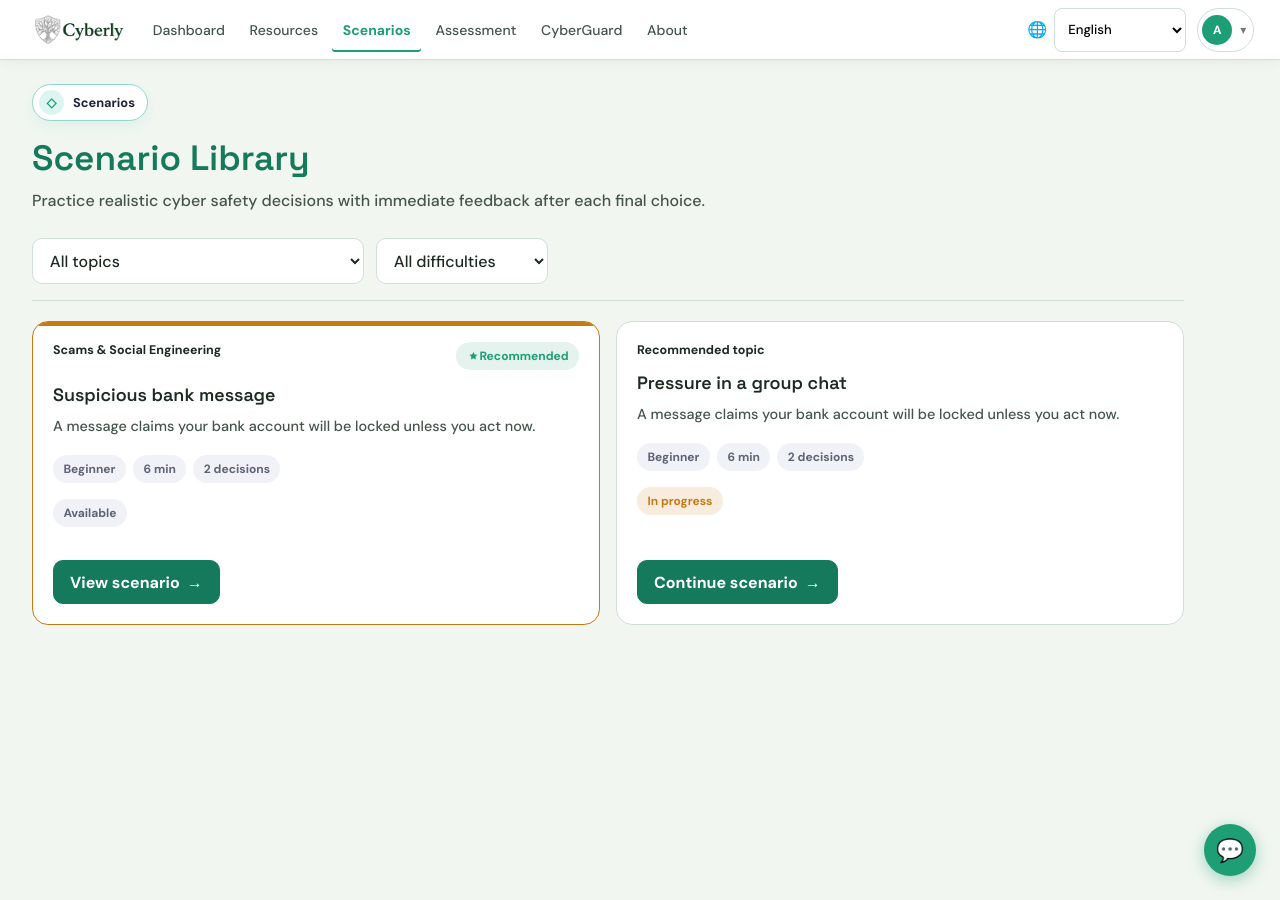
Test: Scenario Decision Trail final visual migration › NIGHT-RUN Navbar canonical return mobile=false state=ready preserves guard and writes
The image size is (1280, 900).
Click the button "Continue scenario →" at [737, 582], box [637,560,838,604]
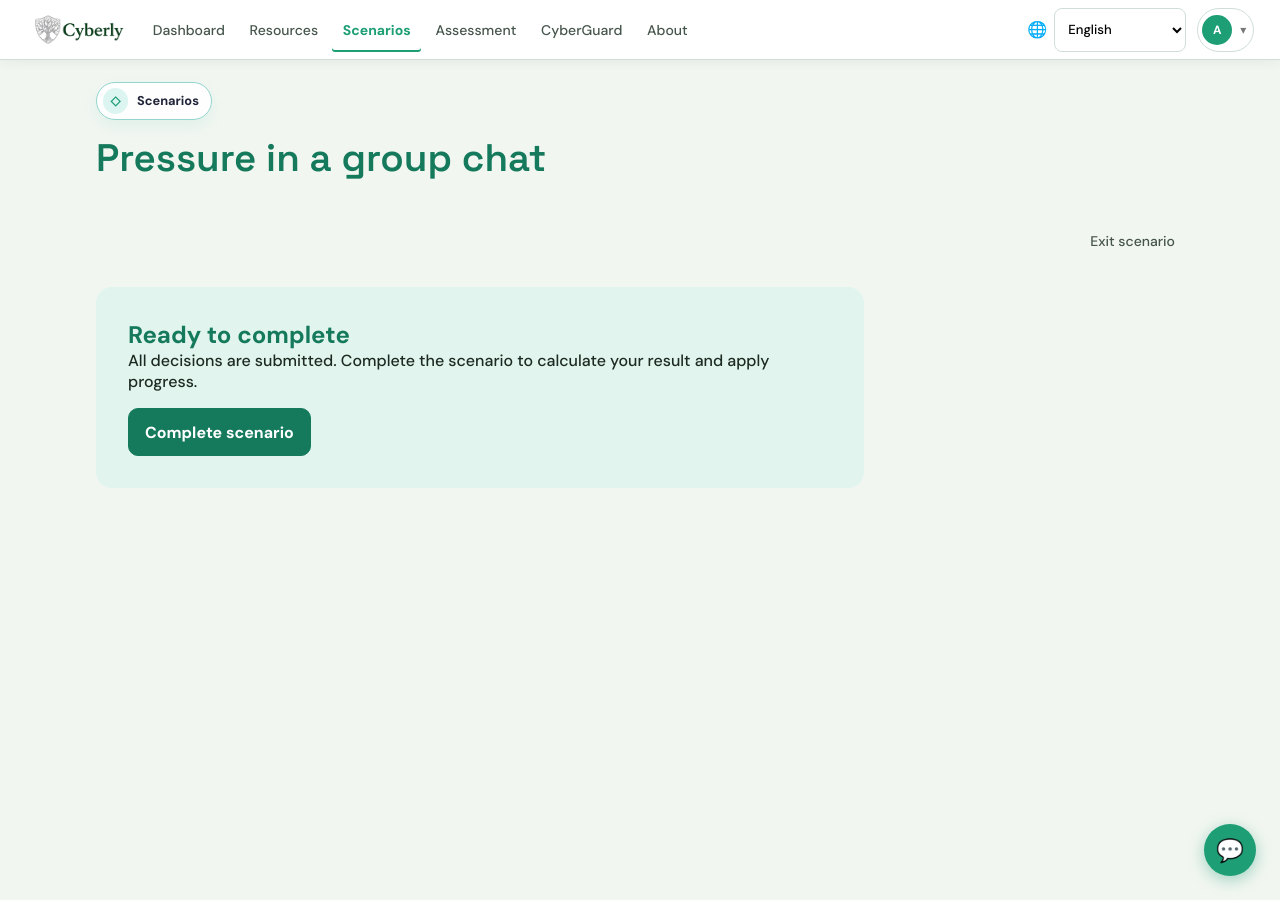
Now the button "Complete scenario" is shown, box [128,408,311,456]
Click the button "Scenarios" at [377, 30], box [332,8,421,52]
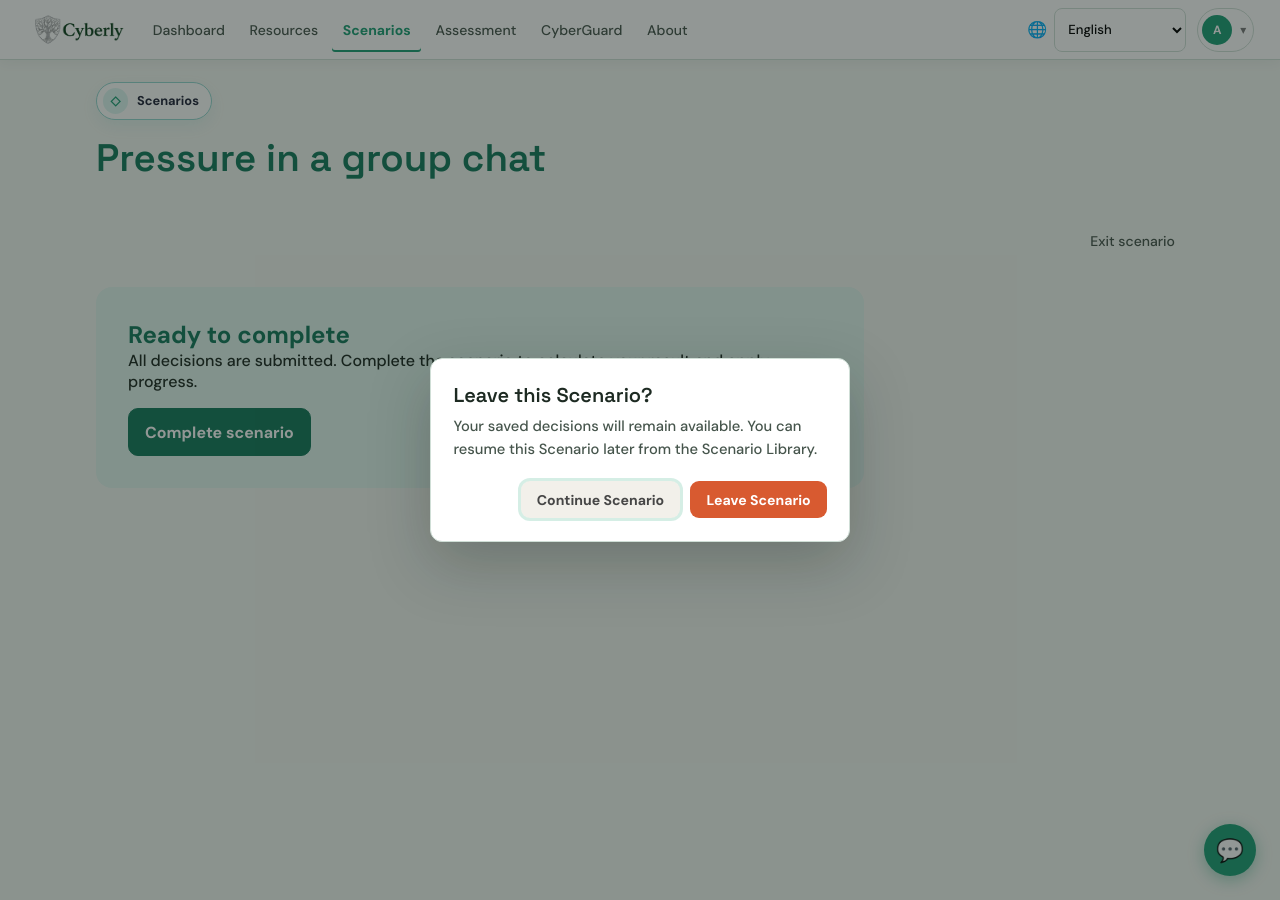
Click the button "Continue Scenario" at [600, 500], box [521,481,680,518]
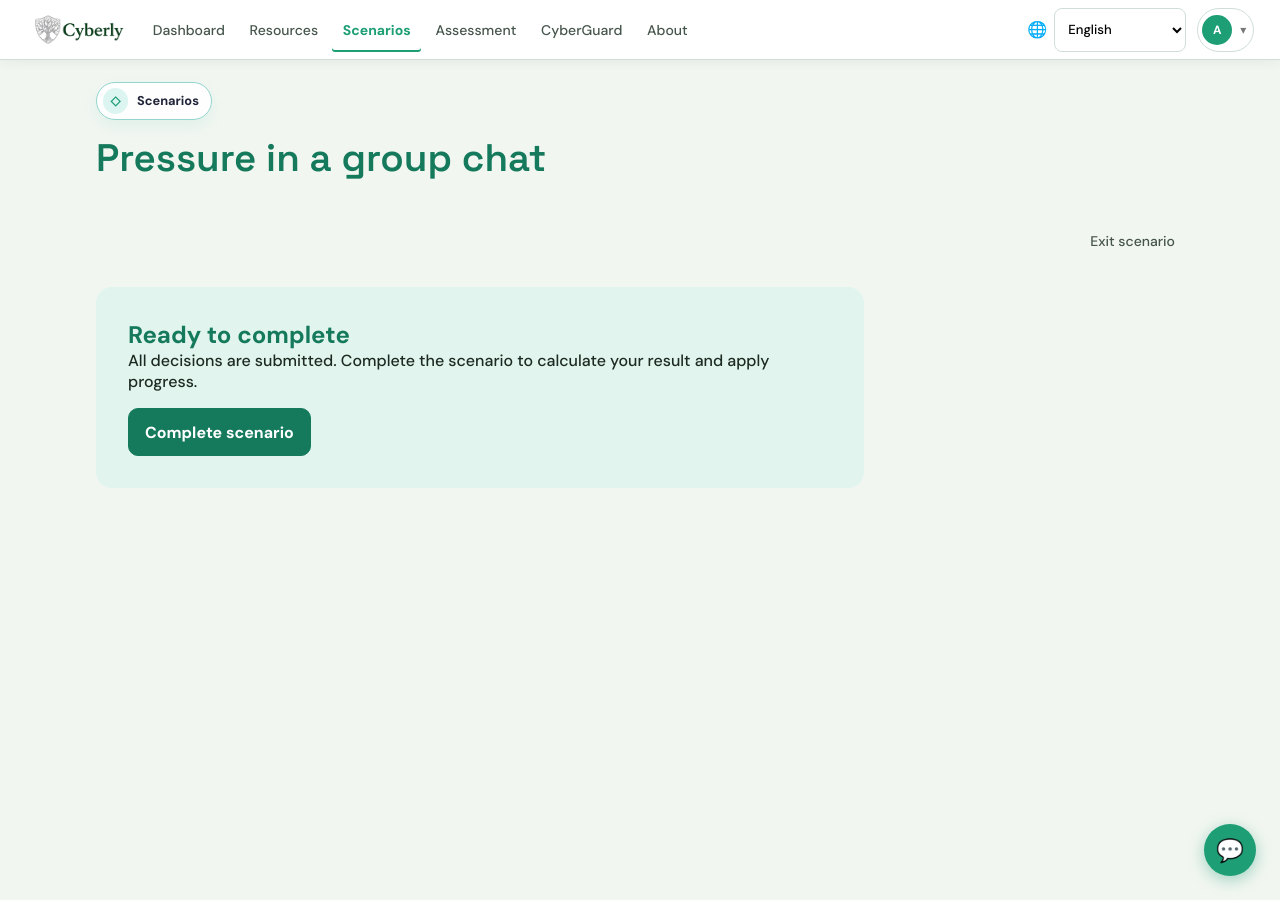
Expected: the button "Complete scenario" is enabled, [128,408,311,456]
Now the heading "Pressure in a group chat" is shown, box [96,133,546,182]
Click the button "Scenarios" at [377, 30], box [332,8,421,52]
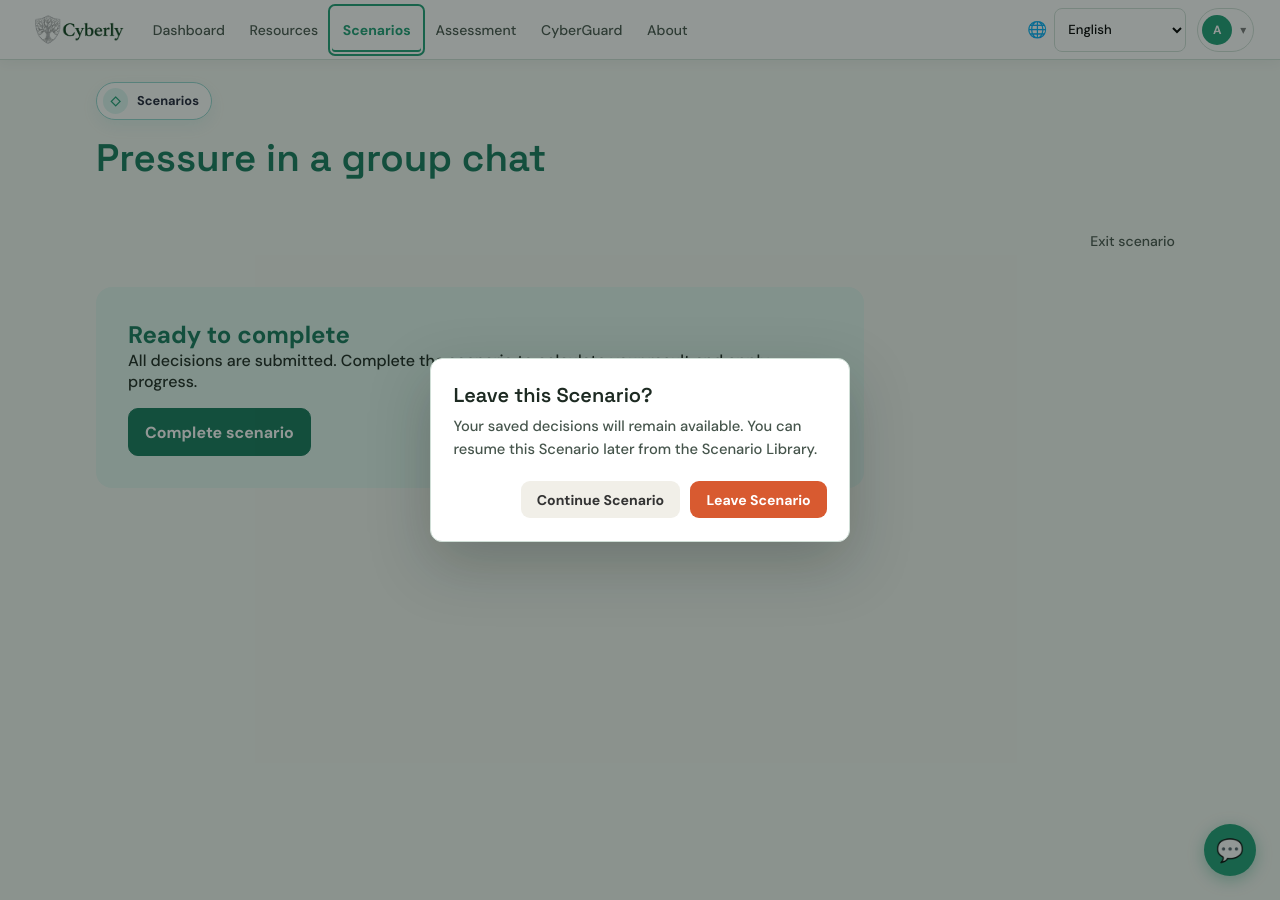
Click the button "Leave Scenario" at [759, 500], box [690,481,827,518]
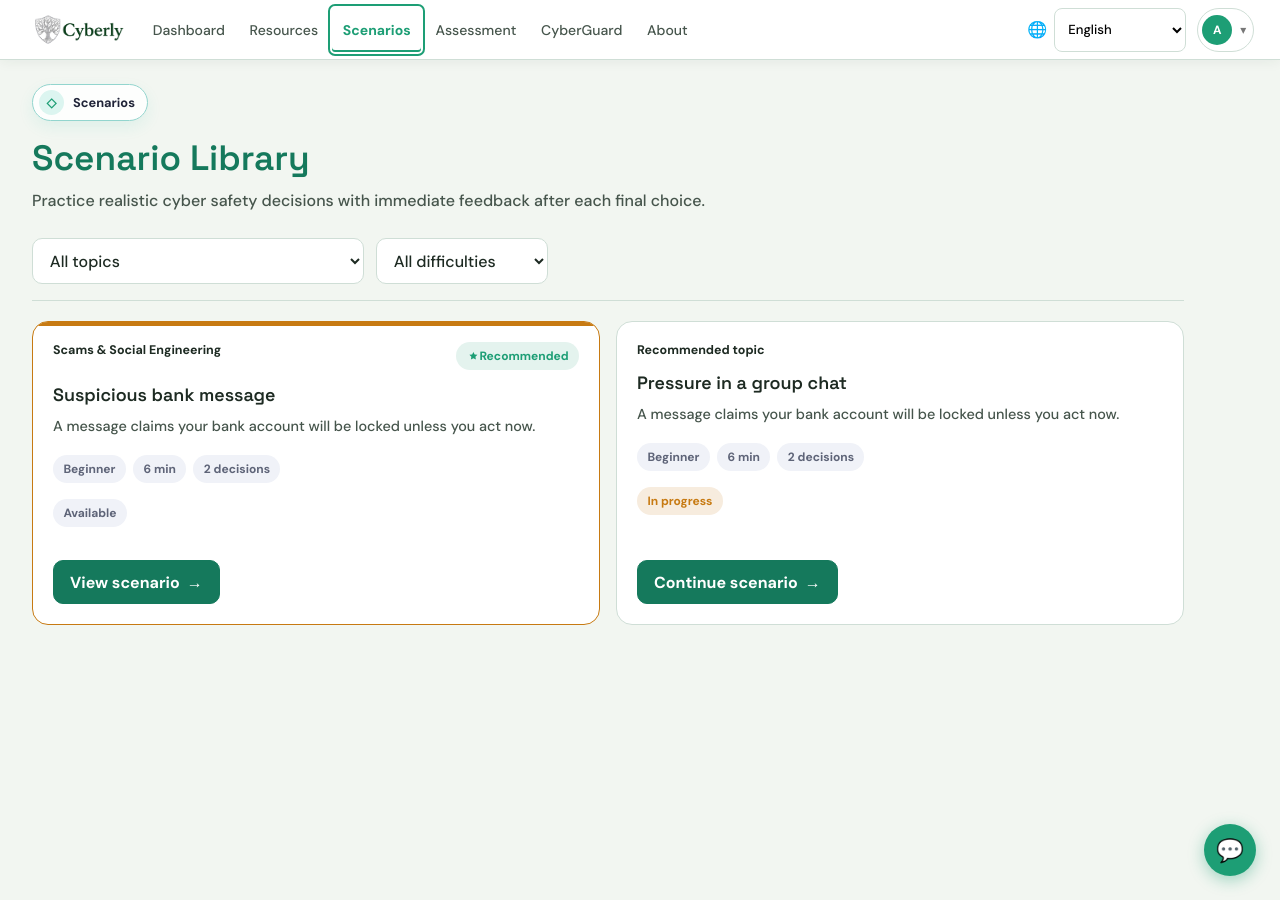
Now the heading "Scenario Library" is shown, box [32,135,310,180]
